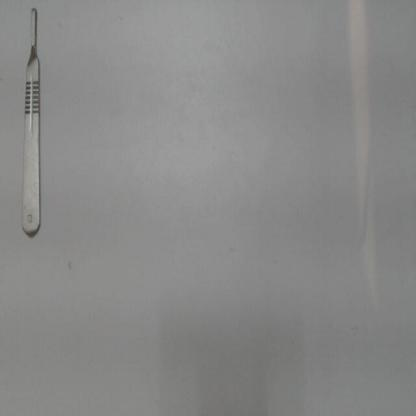No.4 BP Handle: (18, 4, 44, 240)
